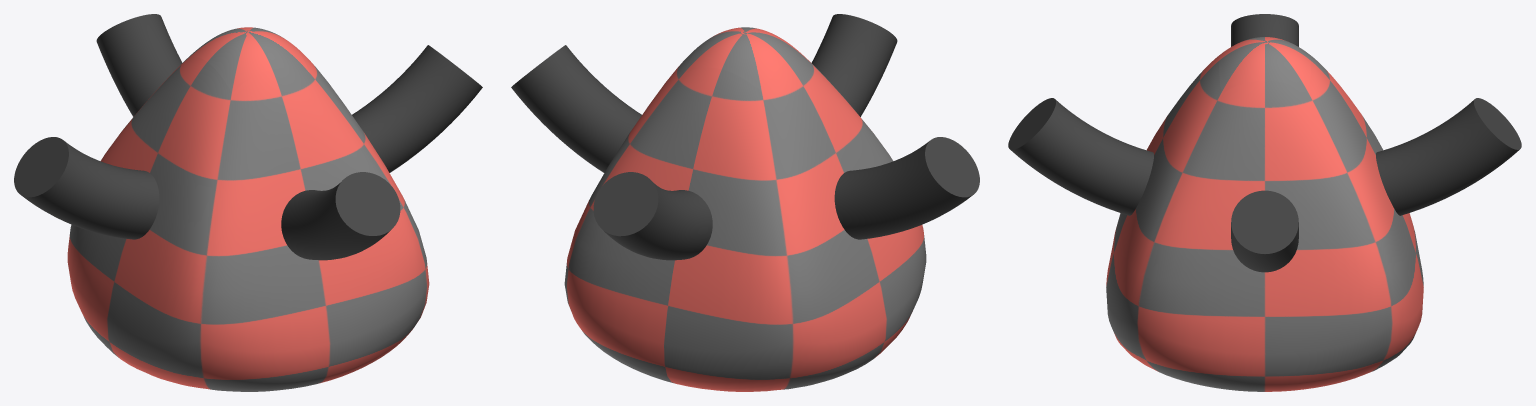
The model's file is Body(Pyramidal)+Colour(More_Red)+Pattern(Checkered)+Arm_Angle(Bent_Up).fbx.
The picture shows the model from 3 angles, left to right: view 1: azimuth 30°, elevation 25°; view 2: azimuth 150°, elevation 25°; view 3: azimuth 270°, elevation 25°; orthographic projection. The views are drawn at different scales.
Parts seen in each view (by area): view 1: Body(Pyramidal)+Colour(More_Red)+Pattern(Checkered)+Arm_Angl (×5); view 2: Body(Pyramidal)+Colour(More_Red)+Pattern(Checkered)+Arm_Angl (×5); view 3: Body(Pyramidal)+Colour(More_Red)+Pattern(Checkered)+Arm_Angl (×5).
Part boxes in pixels (bbox=[...]): Body(Pyramidal)+Colour(More_Red)+Pattern(Checkered)+Arm_Angl (×5): bbox=[14, 14, 482, 391]; Body(Pyramidal)+Colour(More_Red)+Pattern(Checkered)+Arm_Angl (×5): bbox=[511, 14, 979, 391]; Body(Pyramidal)+Colour(More_Red)+Pattern(Checkered)+Arm_Angl (×5): bbox=[1008, 14, 1521, 391].
Bounding box in the file's own units: 60.67 × 40 × 60.67.
2 materials, 2 textured.
